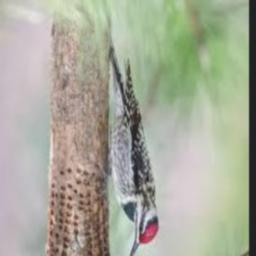Woodpecker: (107, 42, 158, 256)
